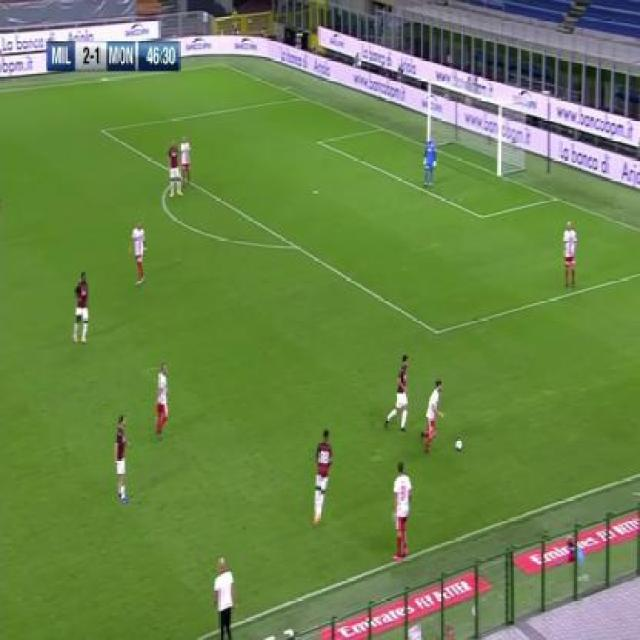ball: (455, 436, 464, 453)
player: (311, 426, 336, 529), (392, 459, 414, 564), (385, 355, 411, 434), (212, 557, 237, 639), (421, 378, 446, 458), (113, 412, 133, 506), (72, 270, 92, 347), (561, 216, 580, 292), (129, 219, 149, 287), (153, 360, 170, 439), (167, 136, 181, 199), (179, 133, 193, 190), (422, 135, 436, 189)
